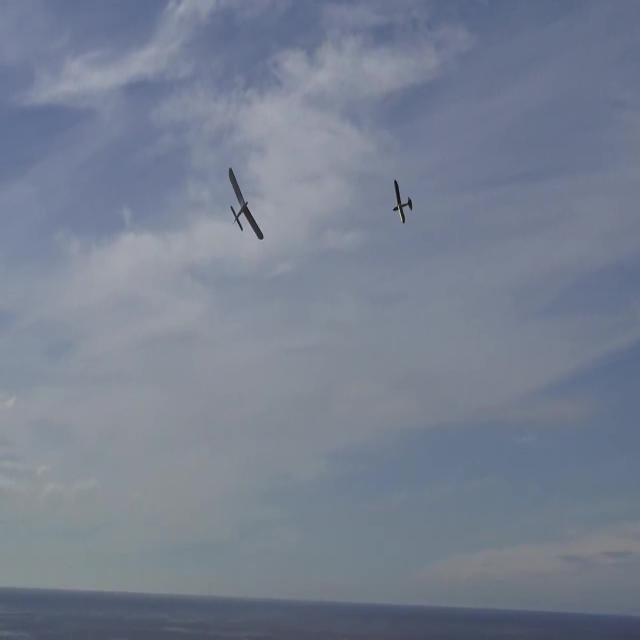iha: (392, 172, 413, 218), (228, 195, 264, 201)
